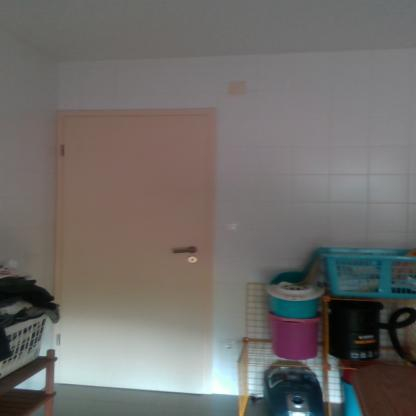door: (64, 116, 204, 392)
hinged: (60, 143, 66, 156), (55, 334, 61, 346)
lever: (171, 246, 198, 256)
